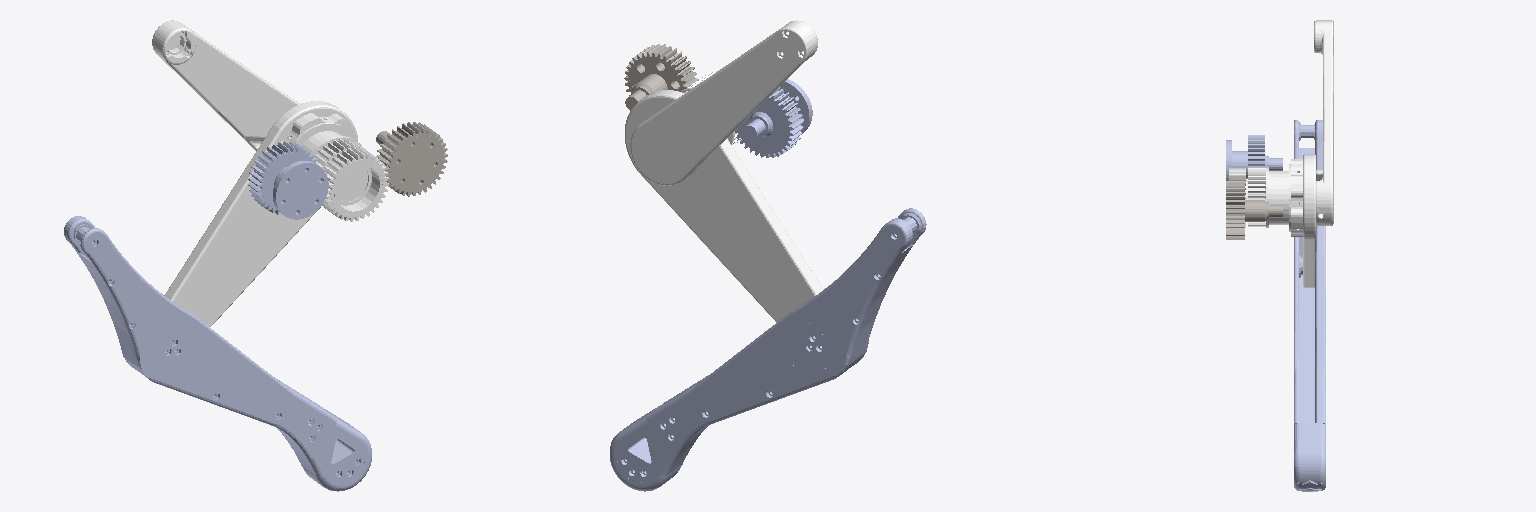
robot.urdf — mos_leg_51:
<?xml version="1.0" encoding="utf-8"?>
<!-- This URDF was automatically created by SolidWorks to URDF Exporter! Originally created by Stephen Brawner (brawner@gmail.com) 
     Commit Version: 1.6.0-4-g7f85cfe  Build Version: 1.6.7995.38578
     For more information, please see http://wiki.ros.org/sw_urdf_exporter -->
<robot
  name="mos_leg_51">
  <link
    name="hip_motor">
    <inertial>
      <origin
        xyz="0.0194551261869284 -0.0930459309938858 -0.146452078309495"
        rpy="0 0 0" />
      <mass
        value="0.193691933258787" />
      <inertia
        ixx="0.000212643438550045"
        ixy="2.52842936395237E-08"
        ixz="-3.06353262610855E-08"
        iyy="0.000111361590772374"
        iyz="-3.62933690347635E-07"
        izz="0.000115174940649883" />
    </inertial>
    <visual>
      <origin
        xyz="0 0 0"
        rpy="0 0 0" />
      <geometry>
        <mesh
          filename="../meshes/hip_motor.STL" />
      </geometry>
      <material
        name="">
        <color
          rgba="1 1 1 1" />
      </material>
    </visual>
    <collision>
      <origin
        xyz="0 0 0"
        rpy="0 0 0" />
      <geometry>
        <mesh
          filename="../meshes/hip_motor.STL" />
      </geometry>
    </collision>
  </link>
  <link
    name="hip_body">
    <inertial>
      <origin
        xyz="0.113371883083303 -0.00893173409426973 -0.000142723342939549"
        rpy="0 0 0" />
      <mass
        value="0.994407565035888" />
      <inertia
        ixx="0.000920741947553529"
        ixy="5.9477504341373E-08"
        ixz="-1.41358307769493E-07"
        iyy="0.00266050233065782"
        iyz="-3.88325839121468E-07"
        izz="0.00208351372160783" />
    </inertial>
    <visual>
      <origin
        xyz="0 0 0"
        rpy="0 0 0" />
      <geometry>
        <mesh
          filename="../meshes/hip_body.STL" />
      </geometry>
      <material
        name="">
        <color
          rgba="1 1 1 1" />
      </material>
    </visual>
    <collision>
      <origin
        xyz="0 0 0"
        rpy="0 0 0" />
      <geometry>
        <mesh
          filename="../meshes/hip_body.STL" />
      </geometry>
    </collision>
  </link>
  <joint
    name="hip_joint"
    type="revolute">
    <origin
      xyz="-0.232 -0.0931137748892989 -0.146354954727982"
      rpy="0 0 0" />
    <parent
      link="hip_motor" />
    <child
      link="hip_body" />
    <axis
      xyz="-1 0 0" />
    <limit
      lower="-0.5"
      upper="0.5"
      effort="30"
      velocity="3" />
  </joint>
  <link
    name="front_gear">
    <inertial>
      <origin
        xyz="-8.18928258539131E-14 -0.0390538870170614 8.06854583146333E-14"
        rpy="0 0 0" />
      <mass
        value="0.0385237466196057" />
      <inertia
        ixx="9.47389810508479E-06"
        ixy="7.56492562337561E-22"
        ixz="7.62880244624107E-22"
        iyy="1.02723402754827E-05"
        iyz="1.44092350357328E-21"
        izz="9.47389810508481E-06" />
    </inertial>
    <visual>
      <origin
        xyz="0 0 0"
        rpy="0 0 0" />
      <geometry>
        <mesh
          filename="../meshes/front_gear.STL" />
      </geometry>
      <material
        name="">
        <color
          rgba="0.776470588235294 0.756862745098039 0.737254901960784 1" />
      </material>
    </visual>
    <collision>
      <origin
        xyz="0 0 0"
        rpy="0 0 0" />
      <geometry>
        <mesh
          filename="../meshes/front_gear.STL" />
      </geometry>
    </collision>
  </link>
  <joint
    name="font_gear"
    type="revolute">
    <origin
      xyz="0.166000000000082 0.0461500000000458 0"
      rpy="0 0 0" />
    <parent
      link="hip_body" />
    <child
      link="front_gear" />
    <axis
      xyz="0 1 0" />
    <limit
      lower="-0.5"
      upper="0.5"
      effort="0"
      velocity="0" />
  </joint>
  <link
    name="rear_gear">
    <inertial>
      <origin
        xyz="2.77555756156289E-17 -0.0303984035950163 1.78468351208494E-14"
        rpy="0 0 0" />
      <mass
        value="0.0482357390578153" />
      <inertia
        ixx="1.0744281957417E-05"
        ixy="3.84649778803174E-21"
        ixz="4.92430958410474E-21"
        iyy="1.25106445892168E-05"
        iyz="1.01686787577547E-21"
        izz="1.0744281957417E-05" />
    </inertial>
    <visual>
      <origin
        xyz="0 0 0"
        rpy="0 0 0" />
      <geometry>
        <mesh
          filename="../meshes/rear_gear.STL" />
      </geometry>
      <material
        name="">
        <color
          rgba="0.792156862745098 0.819607843137255 0.933333333333333 1" />
      </material>
    </visual>
    <collision>
      <origin
        xyz="0 0 0"
        rpy="0 0 0" />
      <geometry>
        <mesh
          filename="../meshes/rear_gear.STL" />
      </geometry>
    </collision>
  </link>
  <joint
    name="rear_gear"
    type="revolute">
    <origin
      xyz="0.0659999999999999 0.0461499999999995 0"
      rpy="0 0 0" />
    <parent
      link="hip_body" />
    <child
      link="rear_gear" />
    <axis
      xyz="0 1 0" />
    <limit
      lower="-0.5"
      upper="0.5"
      effort="0"
      velocity="0" />
  </joint>
  <link
    name="thigh">
    <inertial>
      <origin
        xyz="-0.0334363727266302 -0.00646320958539248 -0.03378325831794"
        rpy="0 0 0" />
      <mass
        value="0.218415882803044" />
      <inertia
        ixx="0.000380276473573837"
        ixy="1.02303283100001E-05"
        ixz="-0.000289516209462419"
        iyy="0.000728917906995596"
        iyz="1.0336467359847E-05"
        izz="0.000374299610045337" />
    </inertial>
    <visual>
      <origin
        xyz="0 0 0"
        rpy="0 0 0" />
      <geometry>
        <mesh
          filename="../meshes/thigh.STL" />
      </geometry>
      <material
        name="">
        <color
          rgba="1 1 1 1" />
      </material>
    </visual>
    <collision>
      <origin
        xyz="0 0 0"
        rpy="0 0 0" />
      <geometry>
        <mesh
          filename="../meshes/thigh.STL" />
      </geometry>
    </collision>
  </link>
  <joint
    name="thigh_gear"
    type="revolute">
    <origin
      xyz="0.116 0.0681499999999996 -0.0101000000000015"
      rpy="0 0 0" />
    <parent
      link="hip_body" />
    <child
      link="thigh" />
    <axis
      xyz="0 -1 0" />
    <limit
      lower="-1"
      upper="1"
      effort="30"
      velocity="3" />
  </joint>
  <link
    name="shank">
    <inertial>
      <origin
        xyz="0.0501963925628425 -0.0140210751268604 -0.0375583634821985"
        rpy="0 0 0" />
      <mass
        value="0.286222361356515" />
      <inertia
        ixx="0.000651861312519635"
        ixy="-9.0760497068014E-07"
        ixz="0.00059808941560027"
        iyy="0.00130942075500998"
        iyz="8.16102370419575E-07"
        izz="0.000673127969335327" />
    </inertial>
    <visual>
      <origin
        xyz="0 0 0"
        rpy="0 0 0" />
      <geometry>
        <mesh
          filename="../meshes/shank.STL" />
      </geometry>
      <material
        name="">
        <color
          rgba="0.792156862745098 0.819607843137255 0.933333333333333 1" />
      </material>
    </visual>
    <collision>
      <origin
        xyz="0 0 0"
        rpy="0 0 0" />
      <geometry>
        <mesh
          filename="../meshes/shank.STL" />
      </geometry>
    </collision>
  </link>
  <joint
    name="shank_middle"
    type="continuous">
    <origin
      xyz="-0.122804058893964 0.0174955906880937 -0.131164562029674"
      rpy="0 0 0" />
    <parent
      link="thigh" />
    <child
      link="shank" />
    <axis
      xyz="0 -1 0" />
  </joint>
  <link
    name="shank_gear">
    <inertial>
      <origin
        xyz="-0.0305539081874436 -0.0151800390635338 0.031163163347574"
        rpy="0 0 0" />
      <mass
        value="0.171587734867676" />
      <inertia
        ixx="0.000249660019311512"
        ixy="4.99779954636461E-06"
        ixz="0.000197761556978693"
        iyy="0.000443409187193007"
        iyz="-5.08968268380674E-06"
        izz="0.000243414619824575" />
    </inertial>
    <visual>
      <origin
        xyz="0 0 0"
        rpy="0 0 0" />
      <geometry>
        <mesh
          filename="../meshes/shank_gear.STL" />
      </geometry>
      <material
        name="">
        <color
          rgba="1 1 1 1" />
      </material>
    </visual>
    <collision>
      <origin
        xyz="0 0 0"
        rpy="0 0 0" />
      <geometry>
        <mesh
          filename="../meshes/shank_gear.STL" />
      </geometry>
    </collision>
  </link>
  <joint
    name="shank_gear"
    type="revolute">
    <origin
      xyz="0.116 0.0871499999999995 -0.0100999999999999"
      rpy="0 0 0" />
    <parent
      link="hip_body" />
    <child
      link="shank_gear" />
    <axis
      xyz="0 1 0" />
    <limit
      lower="-1"
      upper="1"
      effort="30"
      velocity="3" />
  </joint>
  <link
    name="shank_link">
    <inertial>
      <origin
        xyz="-0.0443711312726666 -0.0128234647134589 -0.0571719050658158"
        rpy="0 0 0" />
      <mass
        value="0.0469428664864403" />
      <inertia
        ixx="9.71589752923396E-05"
        ixy="-3.64701280979714E-07"
        ixz="-5.79918854974176E-05"
        iyy="0.000135916178701613"
        iyz="-4.70048453048716E-07"
        izz="3.99674340455091E-05" />
    </inertial>
    <visual>
      <origin
        xyz="0 0 0"
        rpy="0 0 0" />
      <geometry>
        <mesh
          filename="../meshes/shank_link.STL" />
      </geometry>
      <material
        name="">
        <color
          rgba="1 1 1 1" />
      </material>
    </visual>
    <collision>
      <origin
        xyz="0 0 0"
        rpy="0 0 0" />
      <geometry>
        <mesh
          filename="../meshes/shank_link.STL" />
      </geometry>
    </collision>
  </link>
  <joint
    name="shank_link"
    type="continuous">
    <origin
      xyz="-0.109650305919864 -0.0060044093119062 0.111496767865736"
      rpy="0 0 0" />
    <parent
      link="shank_gear" />
    <child
      link="shank_link" />
    <axis
      xyz="0 1 0" />
  </joint>
</robot>

--- Render facts (derived) ---
Views: 3 orthographic renders of the robot side by side, from view 1: azimuth 30°, elevation 25°; view 2: azimuth 150°, elevation 25°; view 3: azimuth 270°, elevation 25°.
Robot: mos_leg_51 — 8 links, 7 joints (5 revolute, 2 continuous); root link hip_motor; default pose: all joints at 0.
Visible links, largest first — view 1: shank, thigh, shank_gear, rear_gear, front_gear; view 2: shank, thigh, shank_gear, rear_gear, front_gear; view 3: shank, thigh, shank_gear, front_gear, rear_gear.
Link boxes in pixels (x1,y1,x2,y2): shank: (64, 216, 371, 491); thigh: (164, 101, 365, 326); shank_gear: (152, 20, 388, 221); rear_gear: (248, 141, 328, 219); front_gear: (376, 122, 447, 196); shank: (610, 208, 926, 491); thigh: (625, 81, 823, 322); shank_gear: (630, 20, 817, 185); rear_gear: (735, 79, 812, 157); front_gear: (624, 44, 698, 110); shank: (1294, 120, 1325, 491); thigh: (1248, 154, 1315, 287); shank_gear: (1229, 20, 1333, 226); front_gear: (1226, 181, 1282, 239); rear_gear: (1226, 135, 1282, 180).
Bounding box of the posed robot: 0.2827 × 0.098 × 0.4094 m (x, y, z).
5 mesh visuals loaded from 8 distinct referenced files (5 binary STL); not drawn: 3 (reference not matched to a file when rendering).
